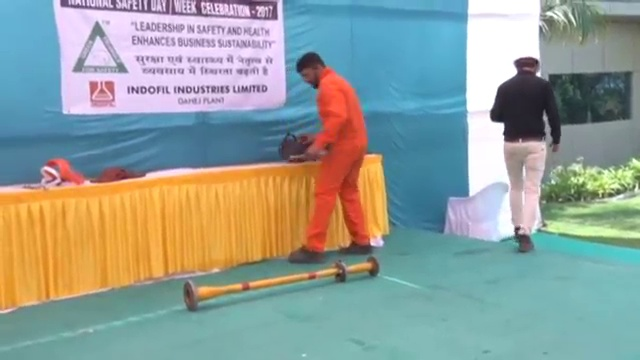helmet: (510, 45, 543, 71)
helmet_off: (294, 51, 329, 89)
helmet_on: (510, 44, 545, 78)
person: (294, 52, 371, 255), (490, 43, 561, 252)
